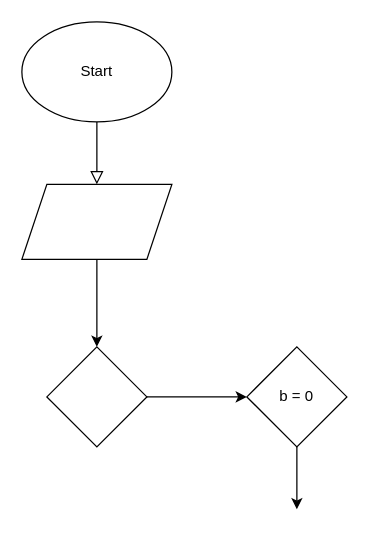
Some shapes in this 369 by 541 pixel diagram are drawn without their labels. Here are the shapes that lost their labels. From the top down, the centre of each, then its label:
[96,221]: Input a, b
[96,396]: a = 0
